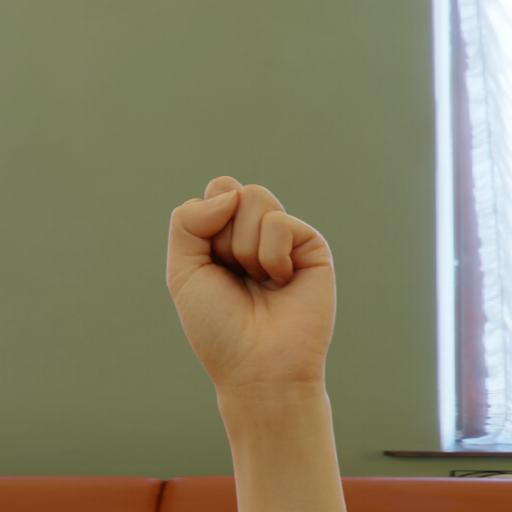S: (146, 164, 356, 424)
